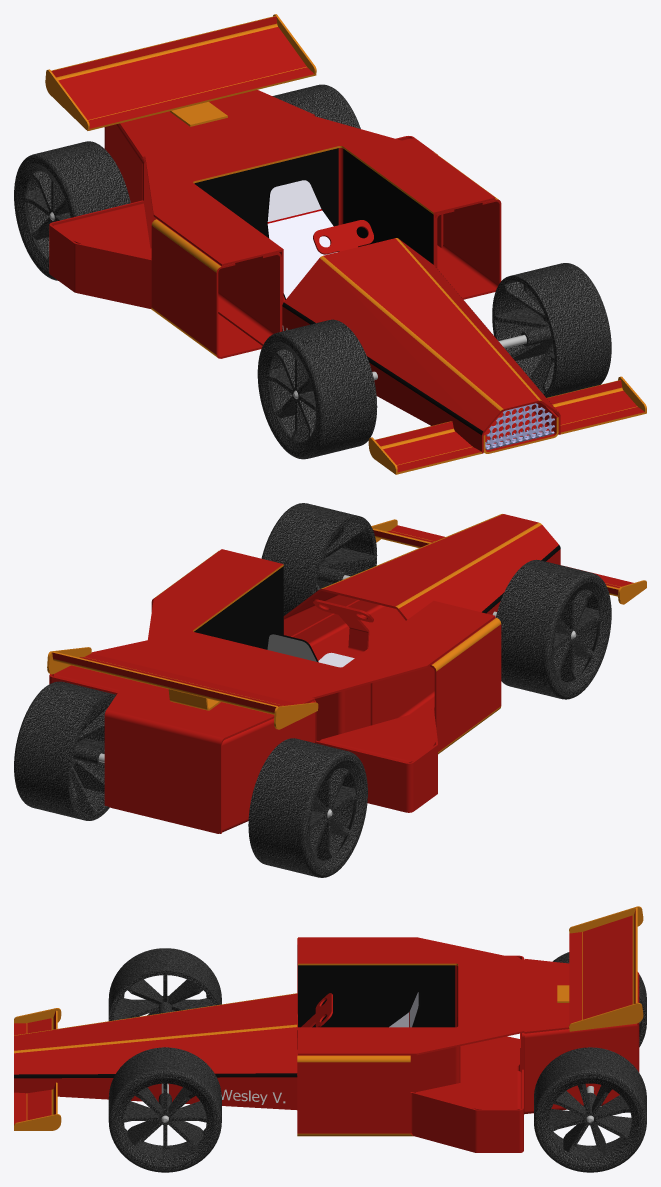
File: F1-oldtimer.glb
The picture shows the model from 3 angles, top to bottom: view 1: azimuth 30°, elevation 25°; view 2: azimuth 150°, elevation 25°; view 3: azimuth 270°, elevation 25°; orthographic projection. The views are drawn at different scales.
Parts seen in each view (by area): view 1: Solid1 (×23); view 2: Solid1 (×22); view 3: Solid1 (×22).
Boxes of the visible parts, box(x1,y1,x2,y2) form: Solid1 (×23): box(14, 16, 644, 474); Solid1 (×22): box(14, 503, 611, 877); Solid1 (×22): box(14, 906, 646, 1172).
Size of the model in its own units: 0.194 by 0.0914 by 0.3354.
Materials: 11 (1 with a texture image).
